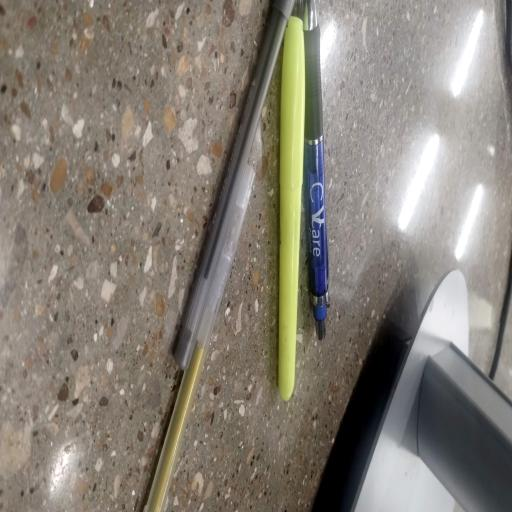pen: (147, 0, 294, 510), (173, 0, 294, 369), (279, 12, 304, 400), (303, 0, 328, 339)
